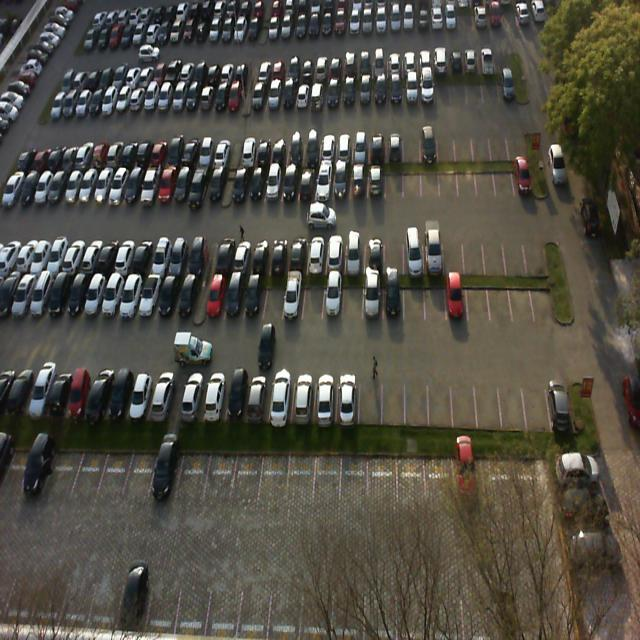space-empty: (94, 445, 132, 502), (123, 442, 158, 502), (71, 446, 106, 501), (43, 445, 78, 499), (231, 451, 264, 504), (499, 373, 528, 432), (204, 448, 238, 498), (175, 445, 208, 496), (312, 451, 342, 507), (259, 448, 290, 500), (523, 371, 550, 428), (476, 372, 502, 429), (288, 449, 314, 504), (452, 374, 479, 426), (428, 375, 454, 428), (262, 270, 286, 324), (530, 270, 557, 318), (359, 371, 382, 426), (382, 371, 405, 424), (405, 374, 428, 426), (486, 273, 511, 320), (483, 227, 507, 275), (443, 226, 466, 273), (509, 276, 532, 320), (303, 276, 324, 324), (525, 229, 548, 272), (467, 275, 488, 322), (505, 227, 526, 272), (404, 274, 424, 320), (426, 276, 446, 322), (382, 231, 404, 272), (464, 228, 484, 272), (345, 275, 362, 320), (458, 162, 478, 198), (478, 158, 496, 198), (494, 160, 514, 195), (422, 163, 440, 198), (388, 162, 404, 200), (403, 163, 420, 198), (440, 162, 458, 195)
space-occupied: (148, 444, 182, 500), (545, 370, 576, 426), (223, 370, 254, 424), (21, 446, 55, 494), (64, 367, 93, 420), (117, 271, 146, 322), (222, 272, 249, 326), (83, 371, 112, 421), (106, 371, 134, 422), (136, 267, 162, 320), (127, 370, 154, 420), (312, 372, 336, 428), (268, 373, 294, 424), (154, 274, 180, 324), (203, 370, 229, 420), (246, 372, 272, 422), (148, 374, 175, 422), (174, 272, 198, 324), (101, 270, 125, 320), (241, 275, 265, 325), (335, 373, 359, 423), (290, 372, 313, 424), (181, 373, 206, 418), (205, 273, 225, 327), (130, 236, 156, 276), (113, 238, 140, 276), (155, 165, 178, 208), (444, 277, 467, 320), (148, 237, 172, 278), (188, 164, 211, 206), (363, 276, 384, 322), (282, 276, 302, 324), (167, 238, 192, 276), (322, 277, 343, 322), (425, 229, 445, 276), (188, 239, 212, 278), (139, 165, 162, 205), (511, 156, 534, 196), (287, 234, 310, 274), (404, 226, 424, 272), (172, 165, 193, 208), (229, 238, 252, 277), (204, 166, 226, 206), (231, 164, 252, 205), (213, 239, 236, 276), (384, 276, 402, 322), (307, 234, 328, 273), (345, 231, 364, 274), (268, 236, 290, 272), (251, 235, 272, 272), (324, 235, 344, 273), (364, 235, 383, 273), (299, 166, 317, 205), (267, 166, 284, 207), (283, 164, 300, 205), (250, 166, 268, 204), (368, 162, 386, 200), (333, 165, 350, 202), (316, 166, 332, 200), (351, 164, 367, 198)
